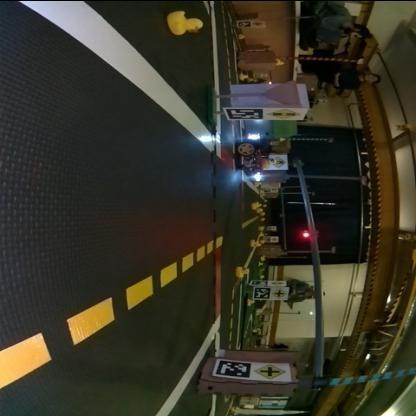Duckie: (168, 9, 203, 33), (238, 264, 250, 276), (262, 156, 276, 166), (251, 238, 259, 244), (251, 201, 259, 207), (276, 58, 284, 64), (240, 72, 248, 78)
Duckiebot: (237, 134, 264, 176)
Intersection sign: (256, 362, 288, 376), (272, 286, 288, 298)
QR code: (216, 358, 252, 376), (226, 106, 264, 118), (254, 285, 272, 297), (252, 278, 269, 284)
Signal sign: (271, 106, 304, 118), (271, 154, 287, 166)
Traffic light: (302, 230, 314, 236)
